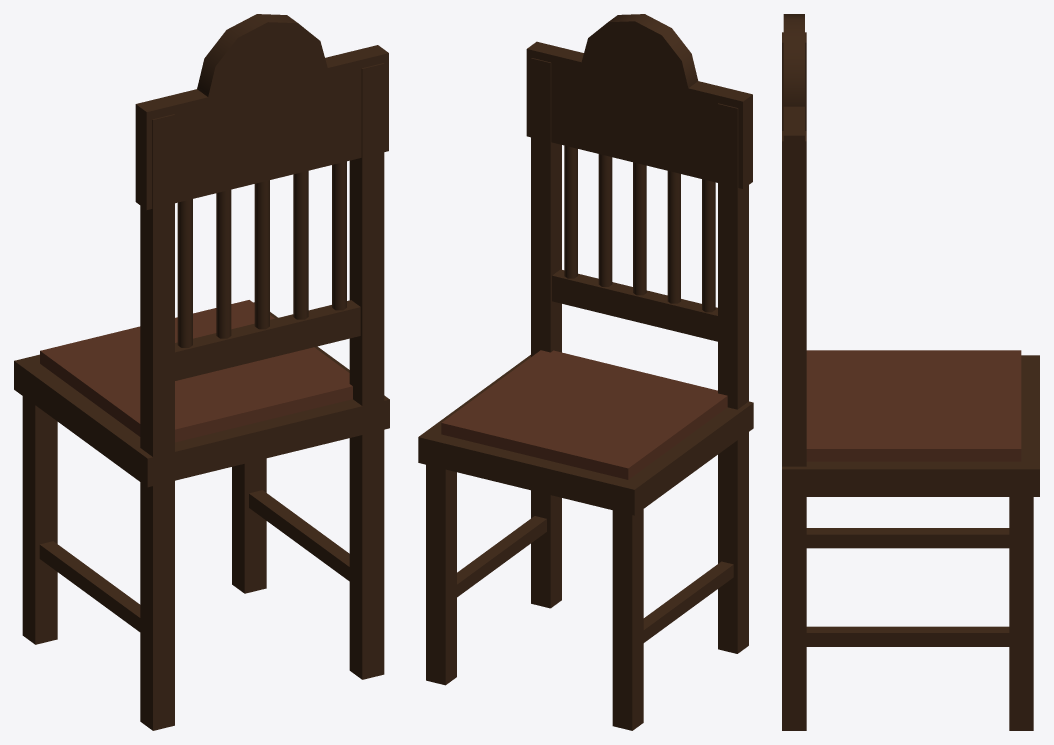
File: chair-carved.obj
The picture shows the model from 3 angles, left to right: view 1: azimuth 30°, elevation 25°; view 2: azimuth 150°, elevation 25°; view 3: azimuth 270°, elevation 25°; orthographic projection. The views are drawn at different scales.
Visible parts, largest first — view 1: chair-carved_8, chair-carved_6, chair-carved_3, chair-carved_1, chair-carved_0, chair-carved_9, chair-carved_2, chair-carved_10, chair-carved_5, chair-carved_4, chair-carved_7, chair-carved_12 (+4 smaller); view 2: chair-carved_1, chair-carved_8, chair-carved_3, chair-carved_0, chair-carved_6, chair-carved_2, chair-carved_5, chair-carved_9, chair-carved_10, chair-carved_4, chair-carved_7, chair-carved_14 (+4 smaller); view 3: chair-carved_1, chair-carved_6, chair-carved_0, chair-carved_5, chair-carved_4, chair-carved_7, chair-carved_8, chair-carved_9.
Boxes of the visible parts, x1,y1,x2,y2 form: chair-carved_8: (135, 45, 388, 209); chair-carved_6: (349, 63, 384, 679); chair-carved_3: (140, 114, 174, 730); chair-carved_1: (40, 300, 352, 442); chair-carved_0: (14, 302, 389, 487); chair-carved_9: (197, 14, 327, 148); chair-carved_2: (22, 396, 57, 644); chair-carved_10: (175, 300, 360, 380); chair-carved_5: (232, 458, 266, 593); chair-carved_4: (39, 541, 140, 631); chair-carved_7: (249, 490, 349, 581); chair-carved_12: (216, 189, 231, 338); chair-carved_1: (441, 350, 727, 479); chair-carved_8: (526, 41, 752, 188); chair-carved_3: (718, 103, 748, 653); chair-carved_0: (418, 355, 753, 515); chair-carved_6: (531, 58, 561, 608); chair-carved_2: (612, 509, 643, 730); chair-carved_5: (426, 465, 456, 685); chair-carved_9: (581, 14, 698, 100); chair-carved_10: (552, 269, 717, 341); chair-carved_4: (643, 561, 733, 642); chair-carved_7: (457, 516, 546, 597); chair-carved_14: (598, 154, 612, 286); chair-carved_1: (806, 350, 1021, 461); chair-carved_6: (782, 131, 806, 730); chair-carved_0: (782, 355, 1039, 496); chair-carved_5: (1009, 497, 1033, 730); chair-carved_4: (806, 528, 1009, 548); chair-carved_7: (806, 626, 1009, 646); chair-carved_8: (783, 106, 804, 229); chair-carved_9: (783, 14, 804, 106).
Size of the model in its own units: 0.44 by 1.18 by 0.42.
